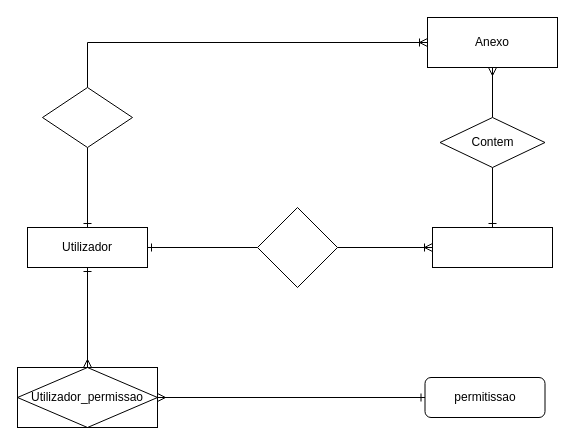
Image size: 575x445. Some labels were removed from this diagram. Here are the shapes that lost their labels. From the top down, the centre of each, then its label:
At [87,117]: "envia".
At [297,247]: "cria".
At [492,247]: "Tarefa".
